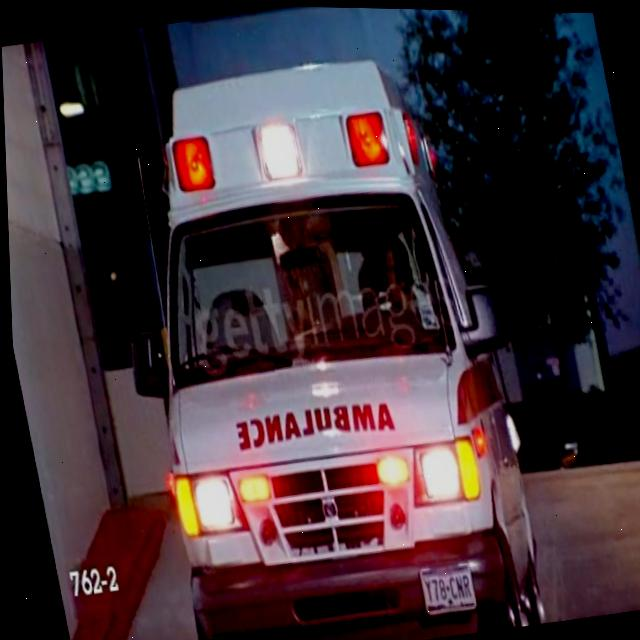emergency: (74, 34, 557, 640)
